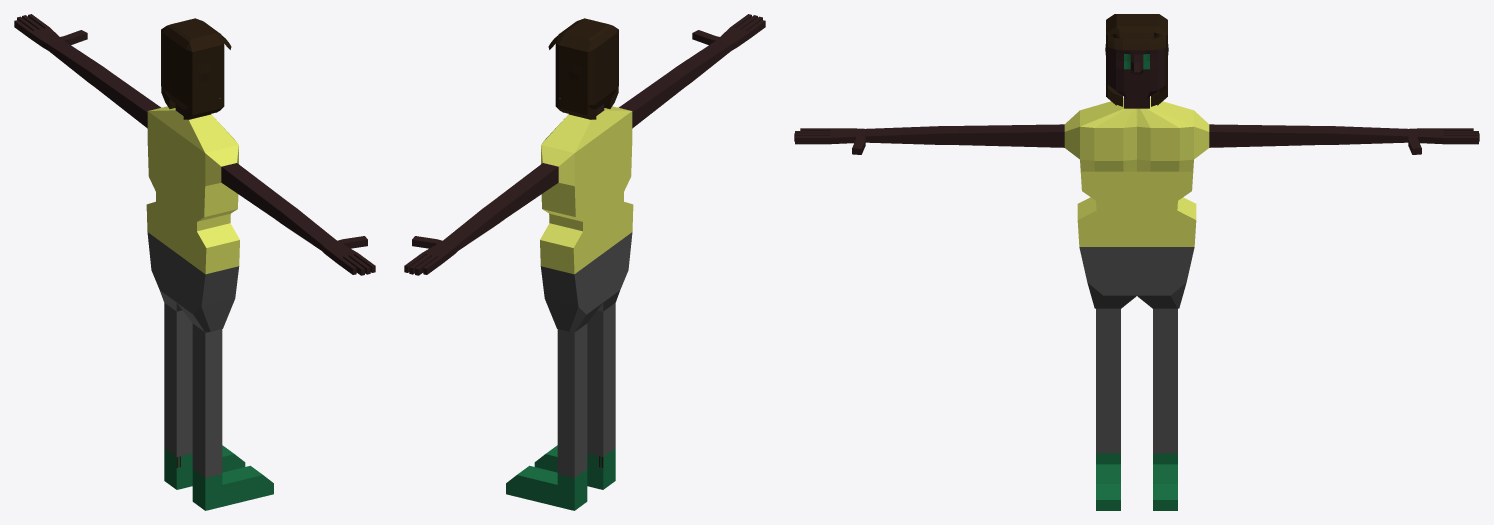
File: GirlModelThree.fbx
3 renders of one model, left to right at view 1: azimuth 30°, elevation 25°; view 2: azimuth 150°, elevation 25°; view 3: azimuth 270°, elevation 25°, orthographic.
Visible parts, largest first — view 1: Plane, Plane.001; view 2: Plane, Plane.001; view 3: Plane, Plane.001.
Boxes of the visible parts, x1,y1,x2,y2 form: Plane: (14,14,375,510); Plane.001: (161,18,231,119); Plane: (404,14,765,510); Plane.001: (548,18,618,119); Plane: (794,47,1479,510); Plane.001: (1105,14,1168,106).
Size of the model in its own units: 168 by 944 by 1269.
